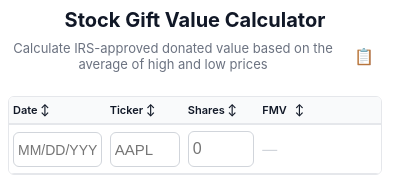
Test: StockGiftCalculator - Mobile Rendering › should handle copy functionality on mobile
The width and height of the screenshot is (402, 192).
Click should work (testing touch interaction)
Click the button named "copy all data to clipboard" at (364, 56), box [346,42,382,70]
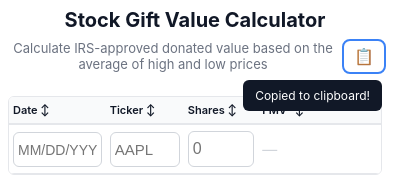
Expected: the text "Copied to clipboard!" is shown, [243,80,382,111]
